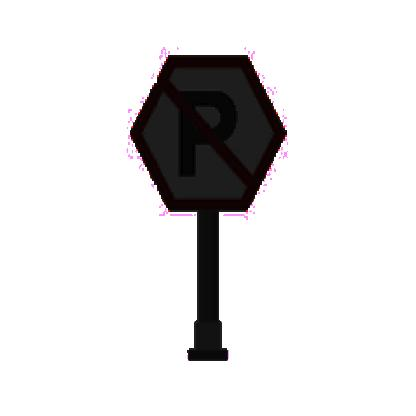No parking: (126, 48, 288, 218)
